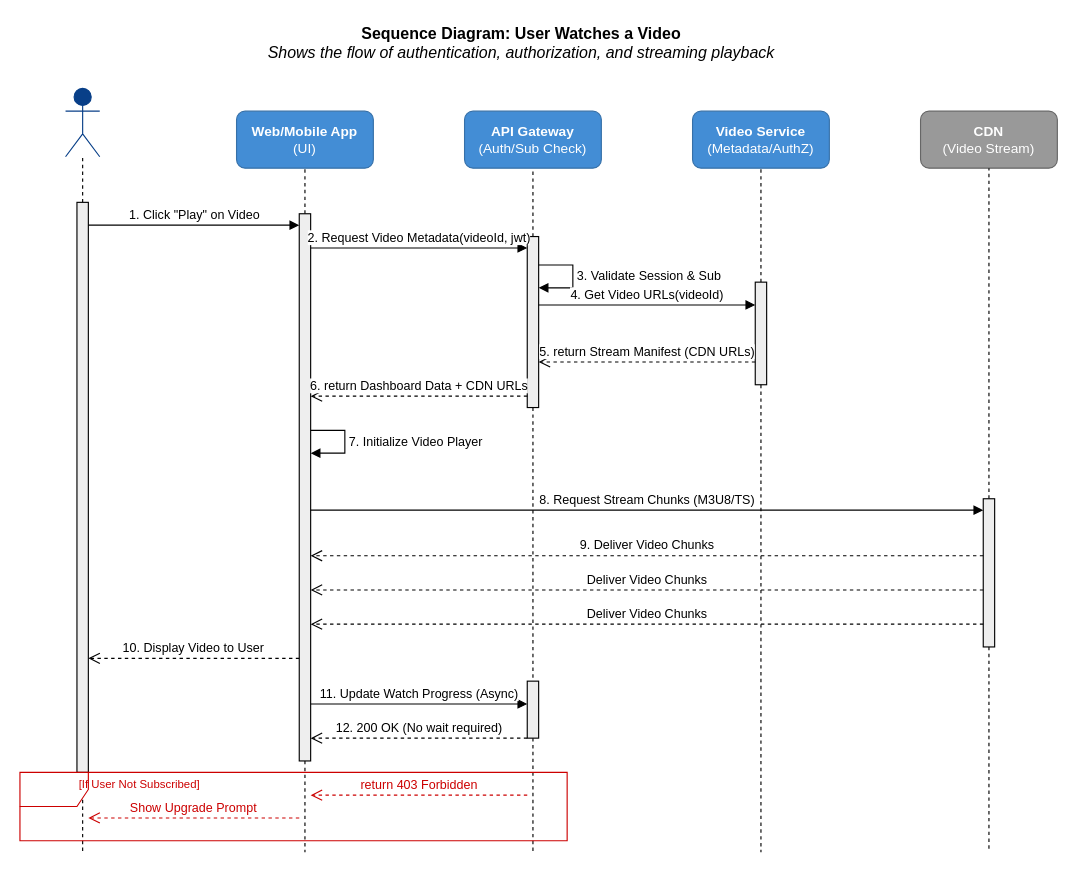
This 1077x873 diagram has some shape labels left out. Each missing label, with the box of its shape:
alt: (19, 771, 567, 841)
Subscriber: (64, 87, 100, 157)
